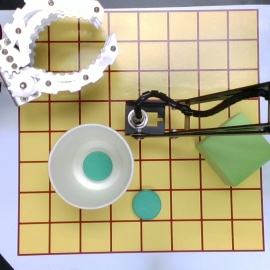cup_green: (48, 124, 133, 211)
green: (133, 190, 162, 218)
